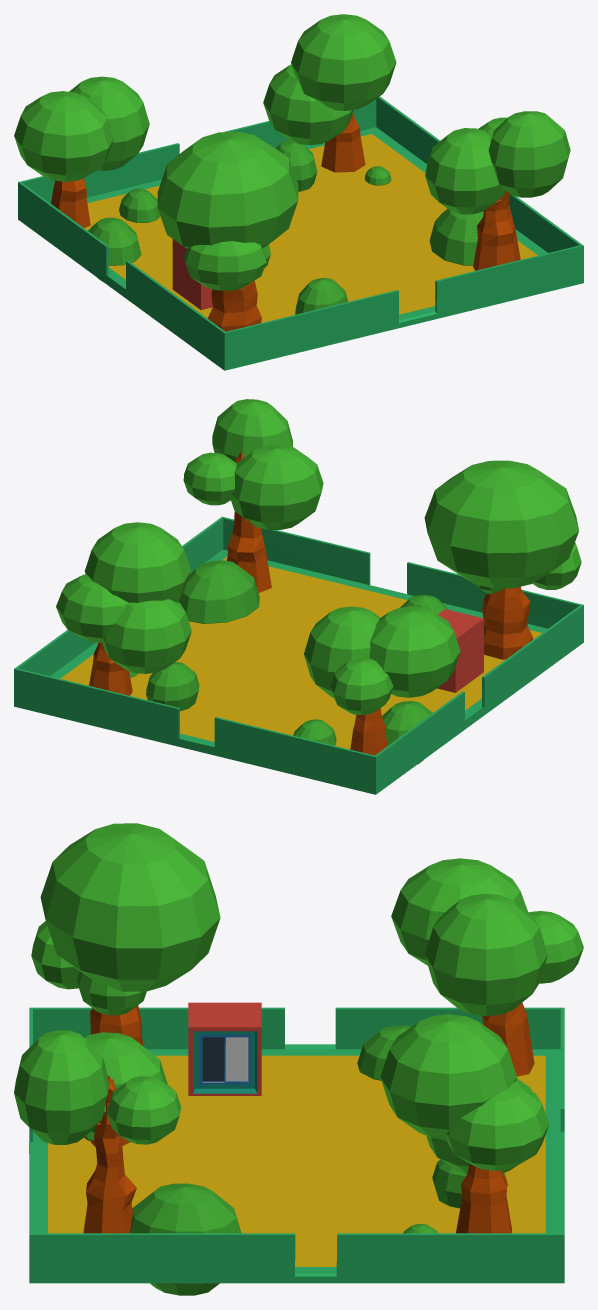
File: ParcATH.fbx
3 renders of one model, top to bottom at view 1: azimuth 30°, elevation 25°; view 2: azimuth 150°, elevation 25°; view 3: azimuth 270°, elevation 25°, orthographic. The views are drawn at different scales.
Parts seen in each view (by area): view 1: park; view 2: park; view 3: park.
Part boxes in pixels (box(x1,y1,x2,y2)): park: box(14, 14, 583, 370); park: box(14, 399, 583, 794); park: box(14, 823, 583, 1295).
Bounding box in the file's own units: 155 × 84.49 × 149.
